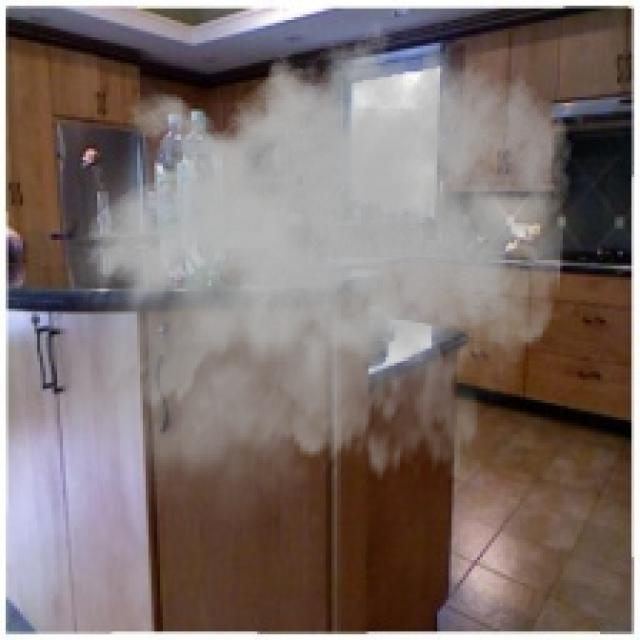smoke: (37, 6, 574, 540)
